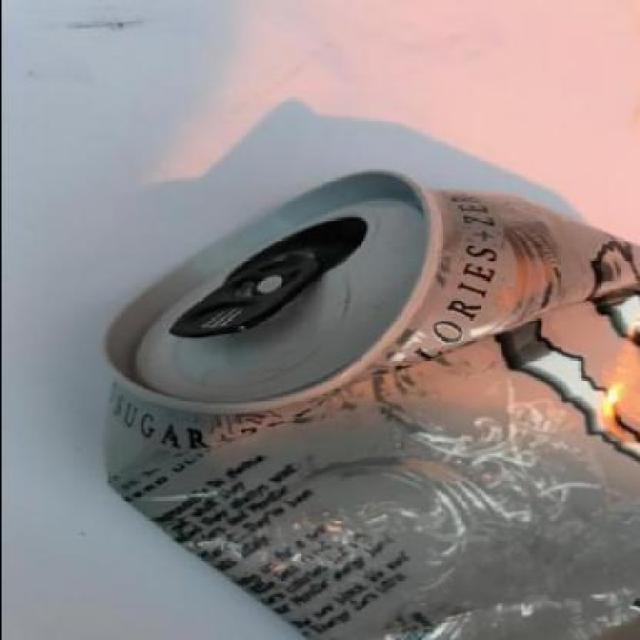METAL: (104, 171, 638, 640)
